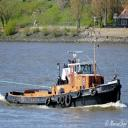tugboat: (5, 51, 123, 113)
